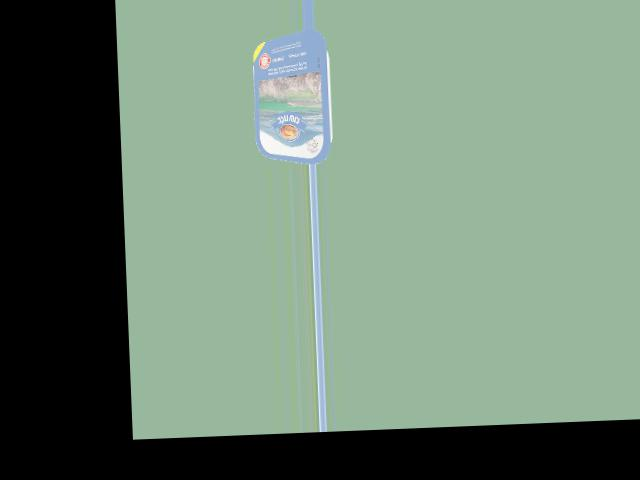cheese: (248, 42, 342, 156)
